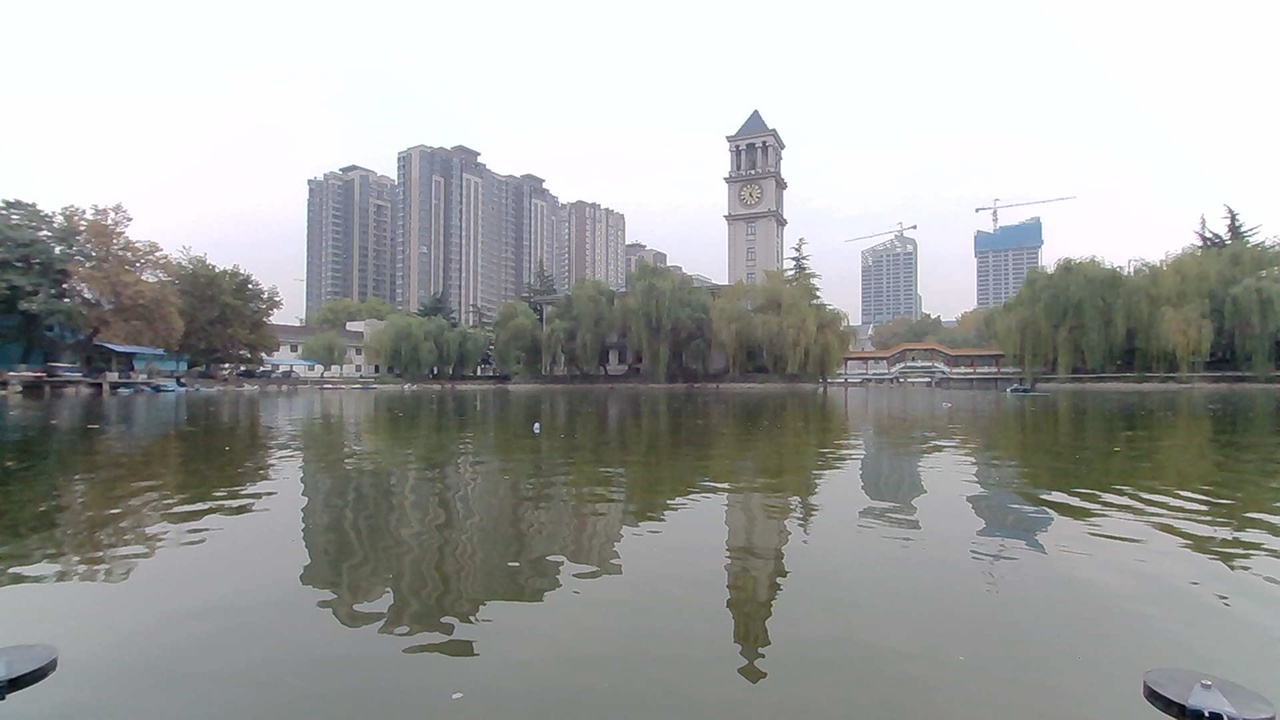bottle: (509, 410, 561, 442), (932, 395, 964, 414)
